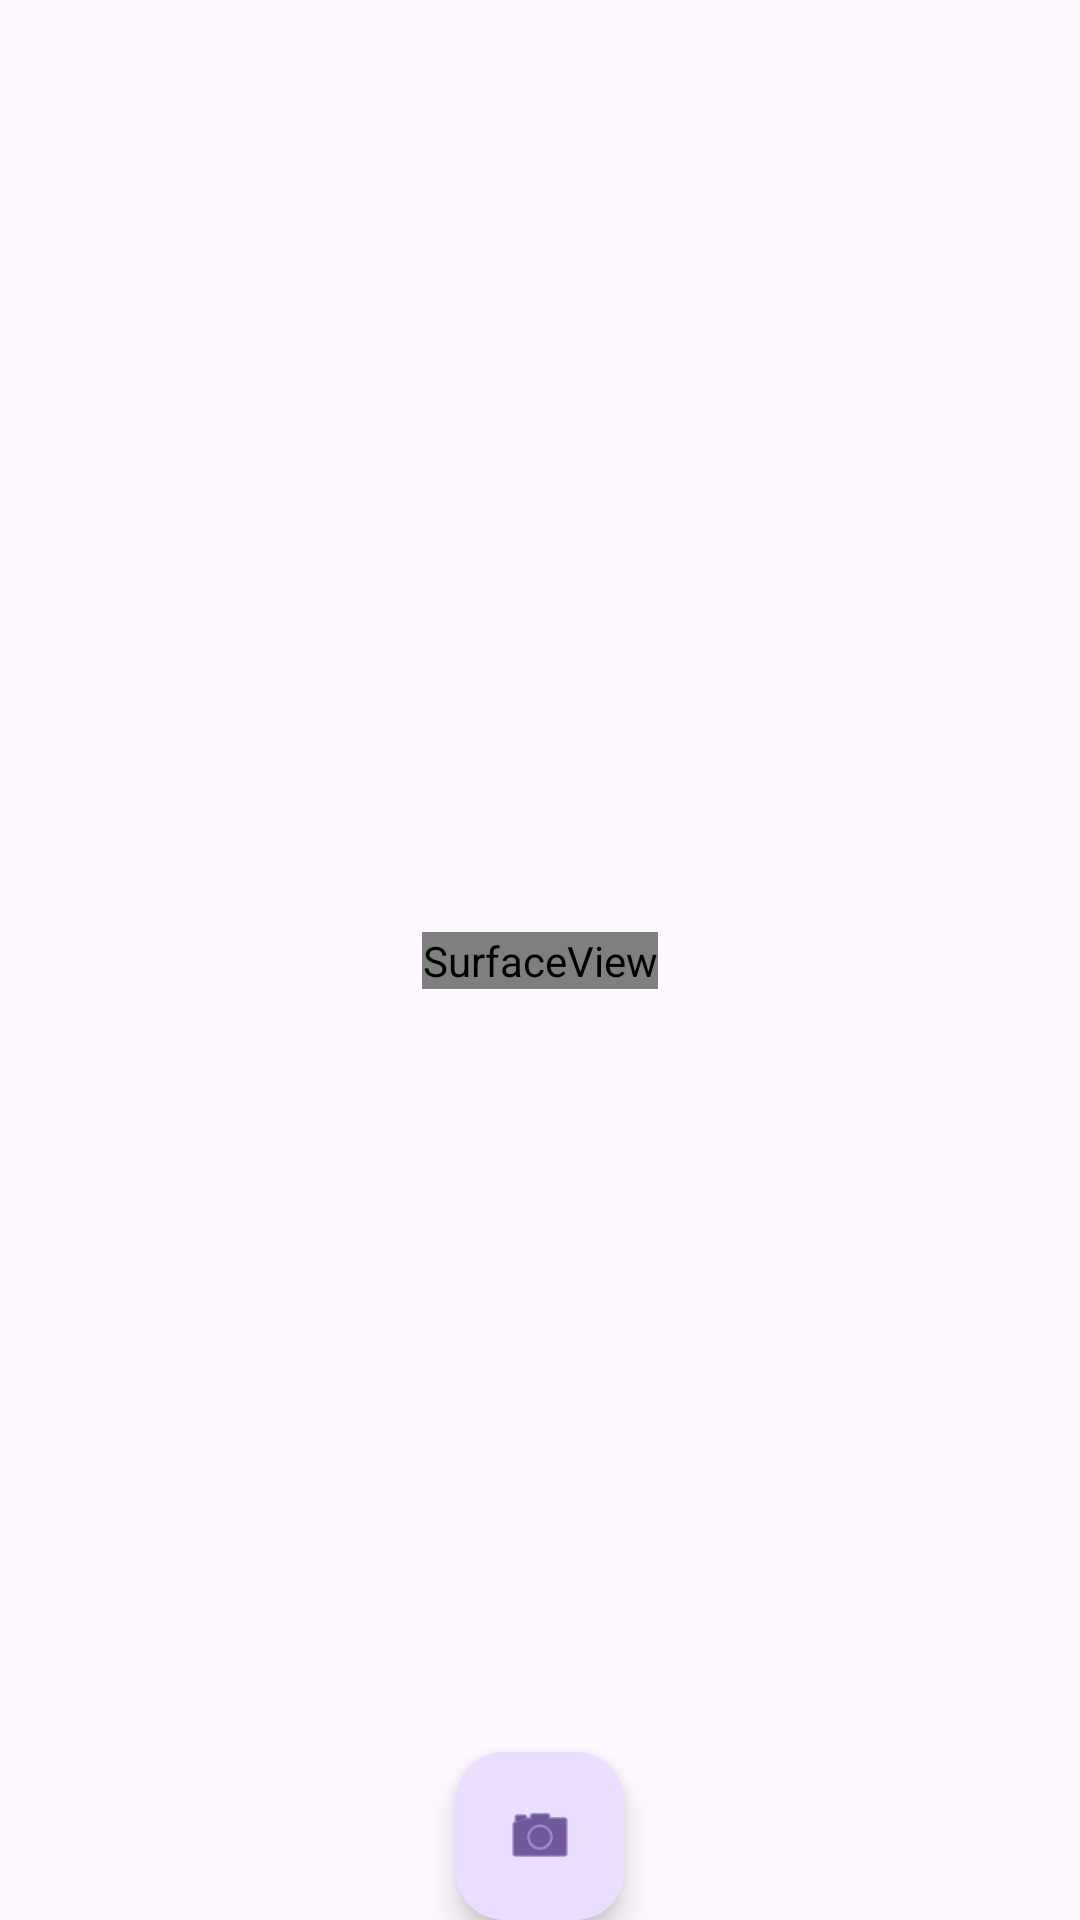

Icons on this 1080×1920 Android screen, each with its box as (left=x1, top=y1, right=x2, bottom=y2):
Take a picture: (left=456, top=1752, right=624, bottom=1920)
